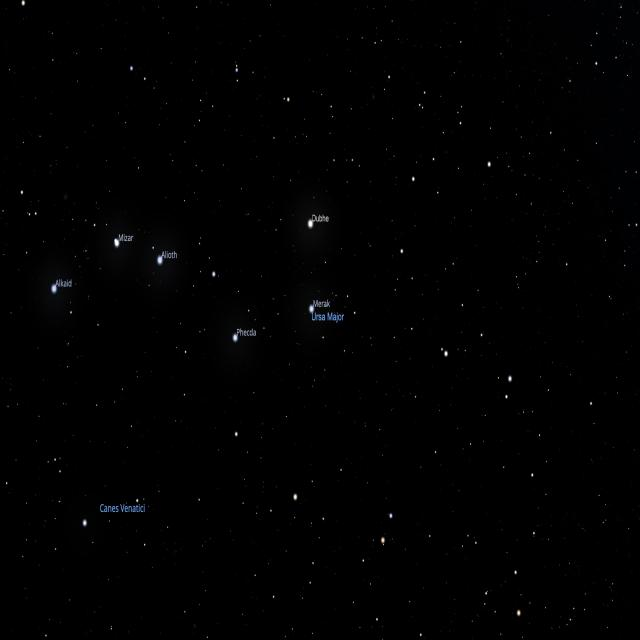Ursa Major: (48, 155, 515, 549)
